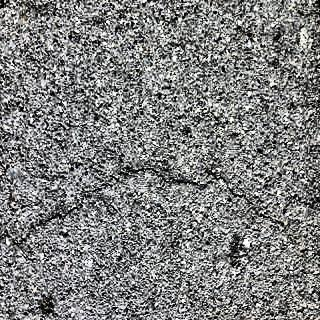crack: (0, 159, 319, 264)
